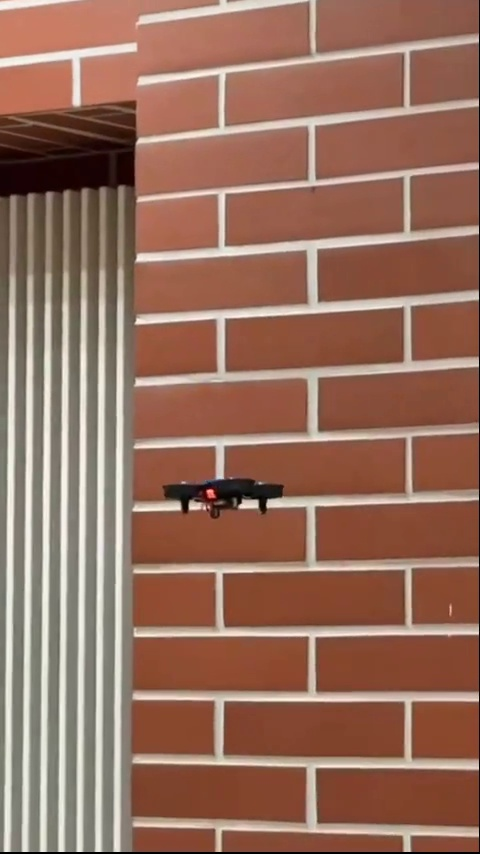drone: (164, 475, 289, 522)
